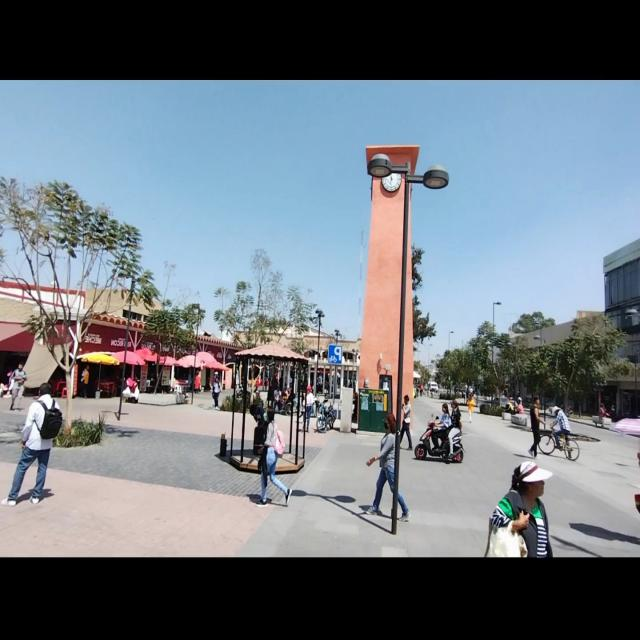adult: (0, 383, 62, 507), (491, 462, 553, 557), (364, 413, 410, 522), (258, 406, 291, 506), (527, 394, 547, 459), (548, 406, 572, 458), (430, 402, 450, 453), (398, 396, 414, 449), (449, 400, 462, 463), (11, 362, 27, 410), (302, 384, 314, 432)
